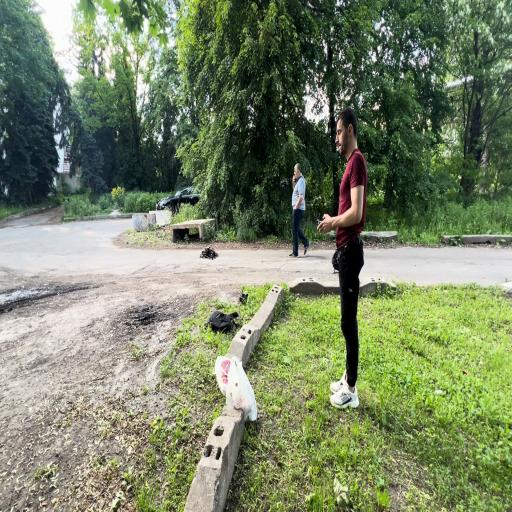drone: (200, 246, 218, 260)
